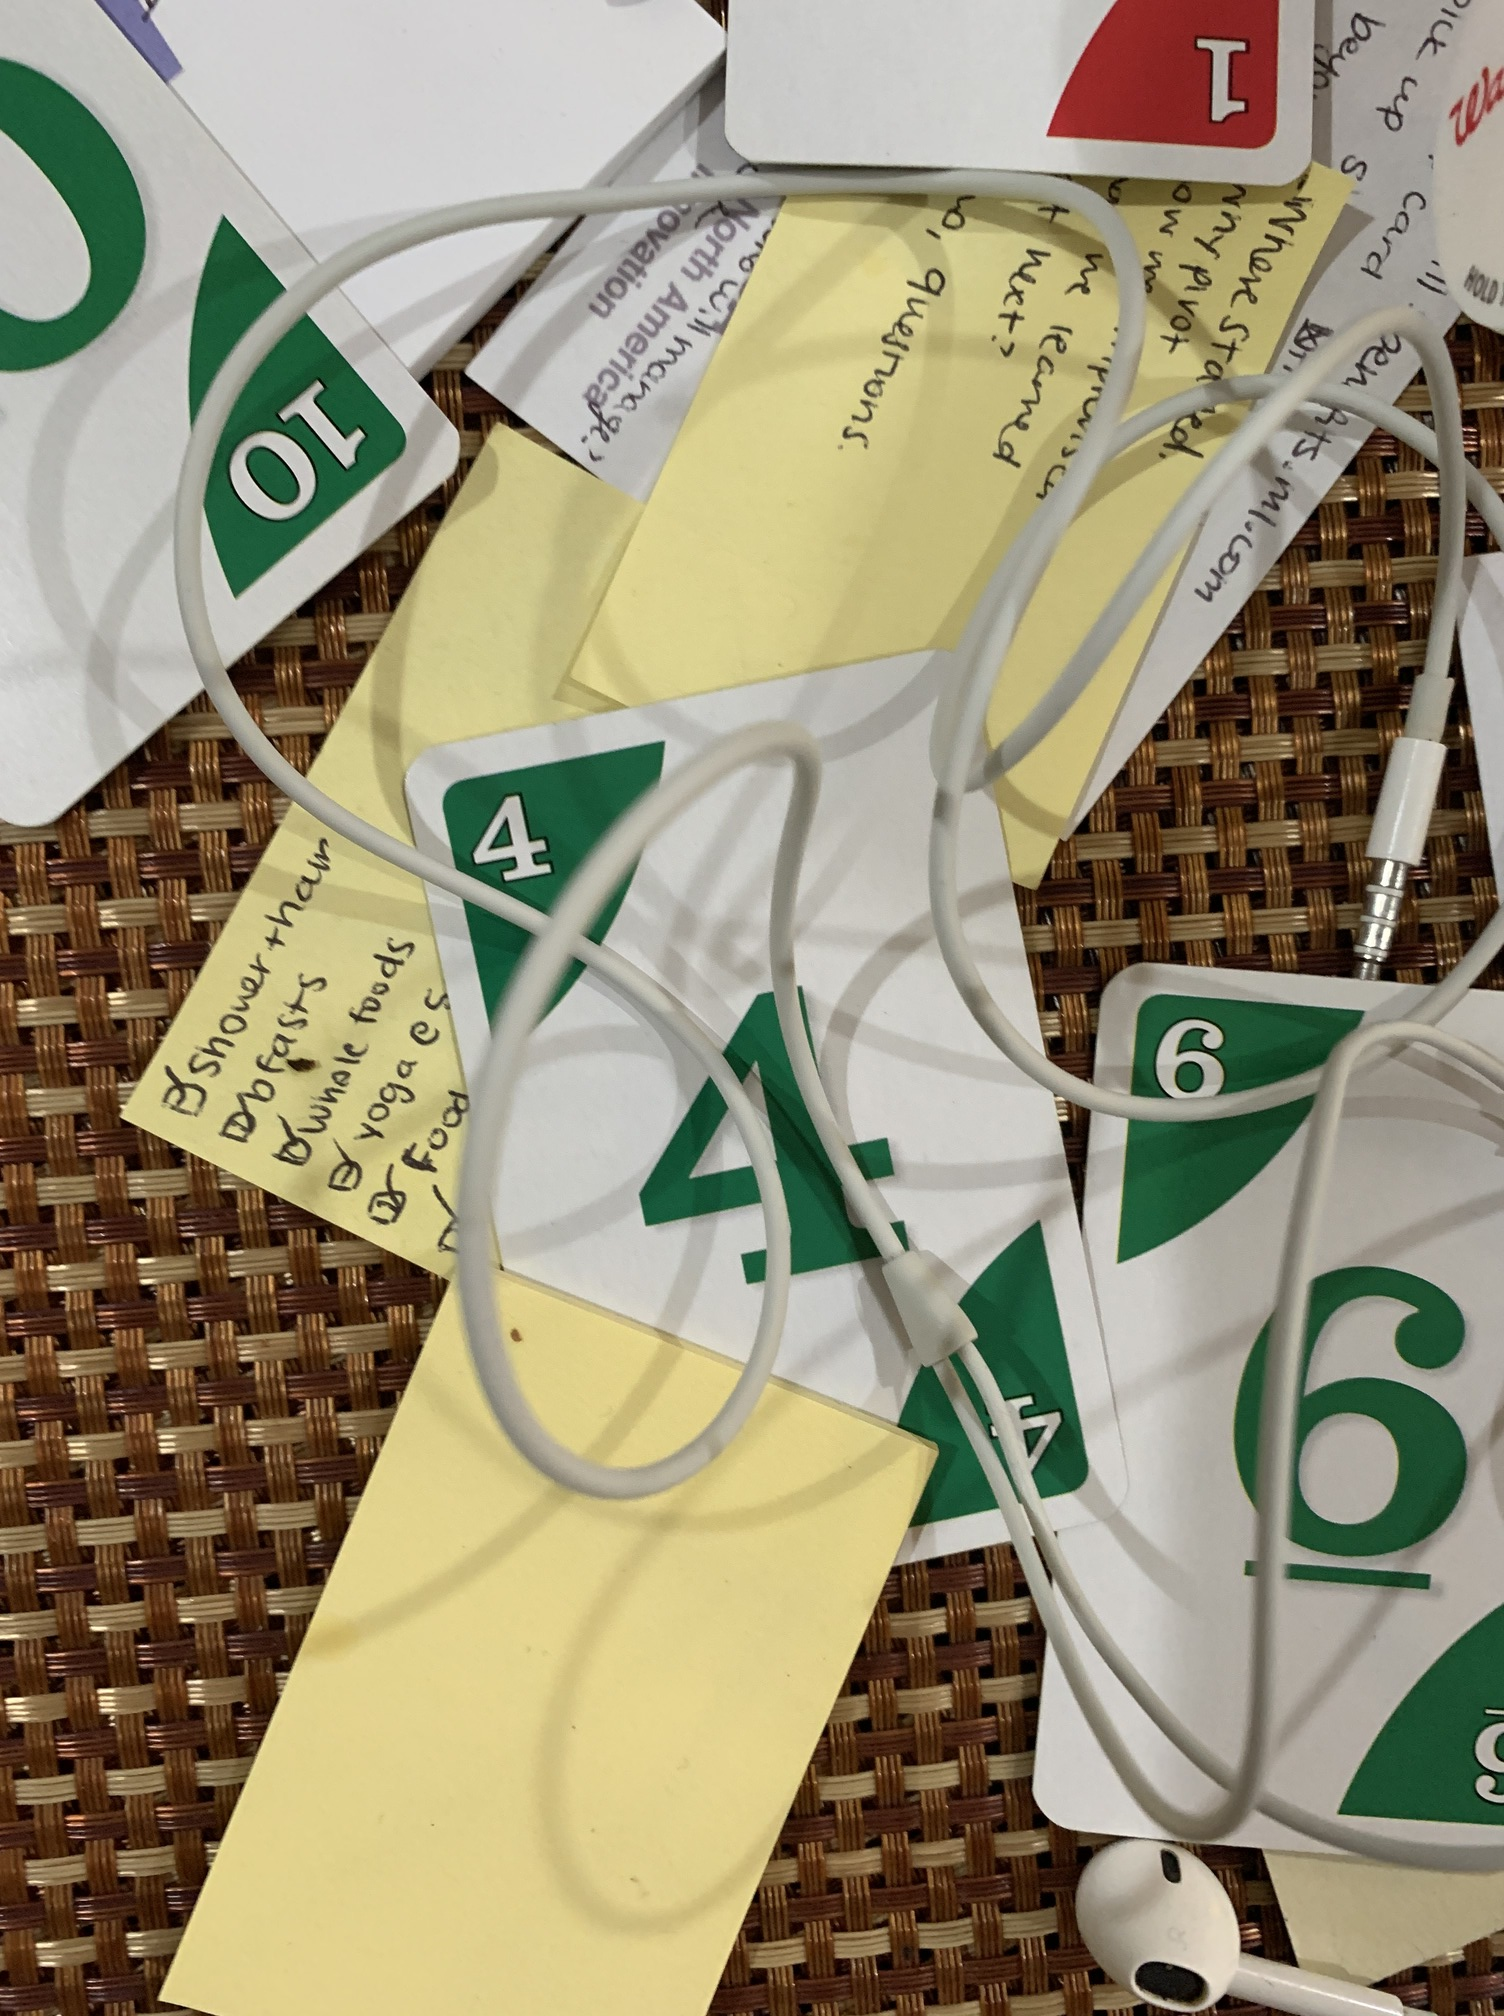four: (401, 640, 1139, 1588)
six: (1011, 957, 1504, 1863)
